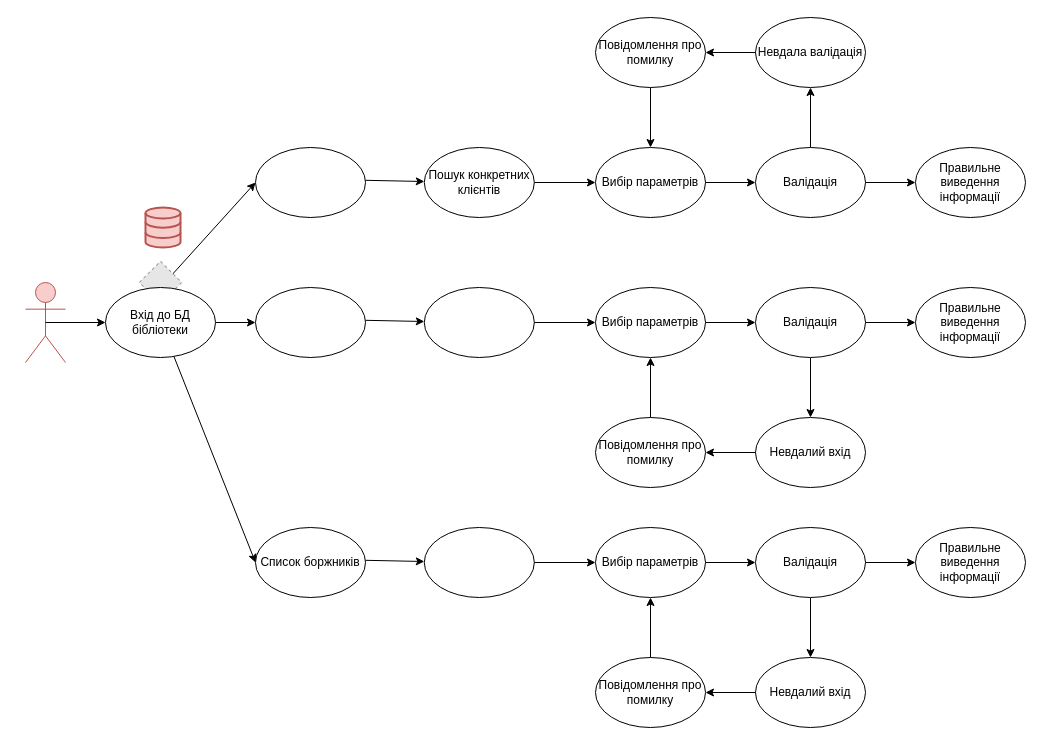
Image size: 1043x745. Some labels were removed from this diagram. Grey dashed boxes stand in for pictures. Each missing label, with the centre of its shape:
"SQL Server" goes at point (162, 227).
"Пошук конкретних боржників" goes at point (478, 562).
"Пошук конкретних книг" goes at point (478, 322).
"Працівник" goes at point (45, 322).
"Список клієнтів" goes at point (310, 182).
"Список книг" goes at point (310, 322).
